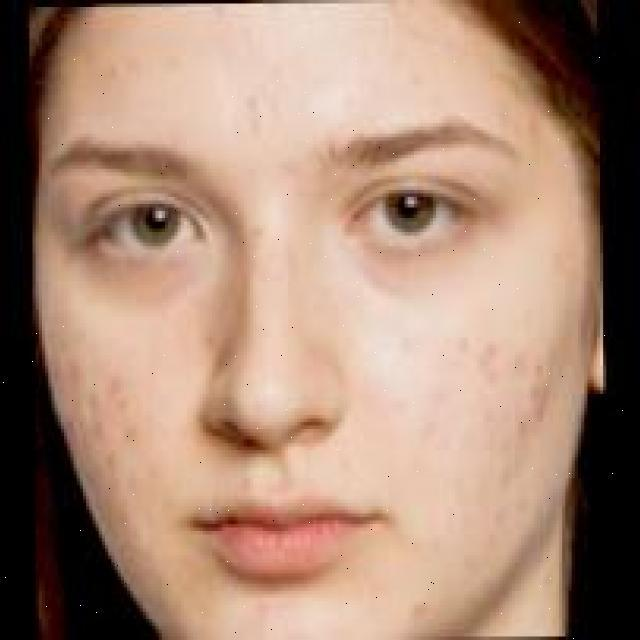Acne: (402, 329, 542, 537), (42, 321, 140, 514)
